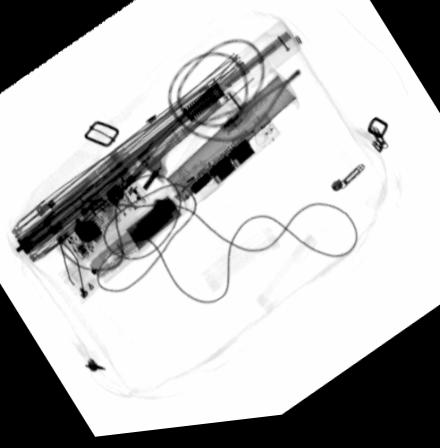Baton: (55, 102, 281, 308)
